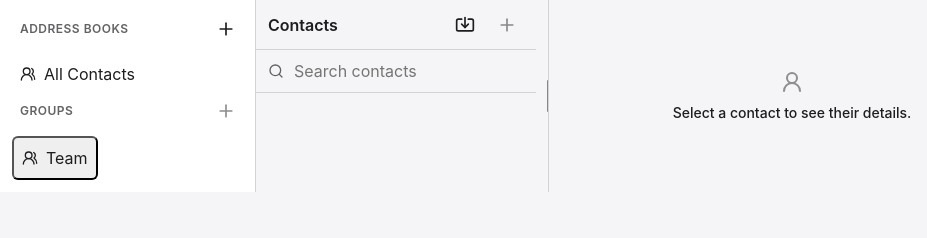
Test case: ContactsScreen groups › shows a group’s members when it is selected
This screenshot has width=927, height=238.
Click the button "Team" at (55, 158), box top-left (12, 136), bottom-right (98, 180)
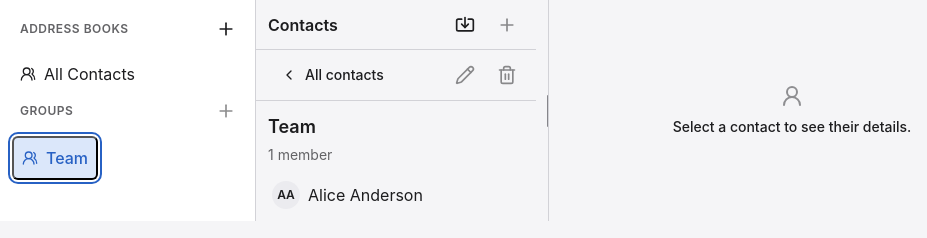
Check: the link "AA Alice Anderson" is shown, box top-left (272, 181), bottom-right (423, 209)
Check: the heading "Team" is shown, box top-left (268, 116), bottom-right (316, 137)
